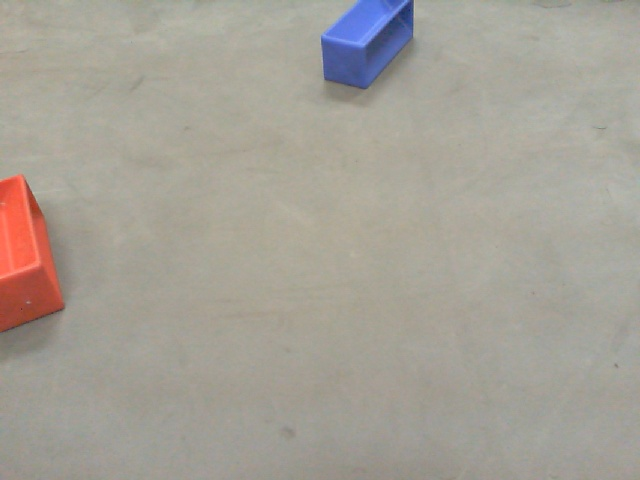BlueSample: (321, 1, 415, 92)
RedSample: (1, 170, 70, 333)
